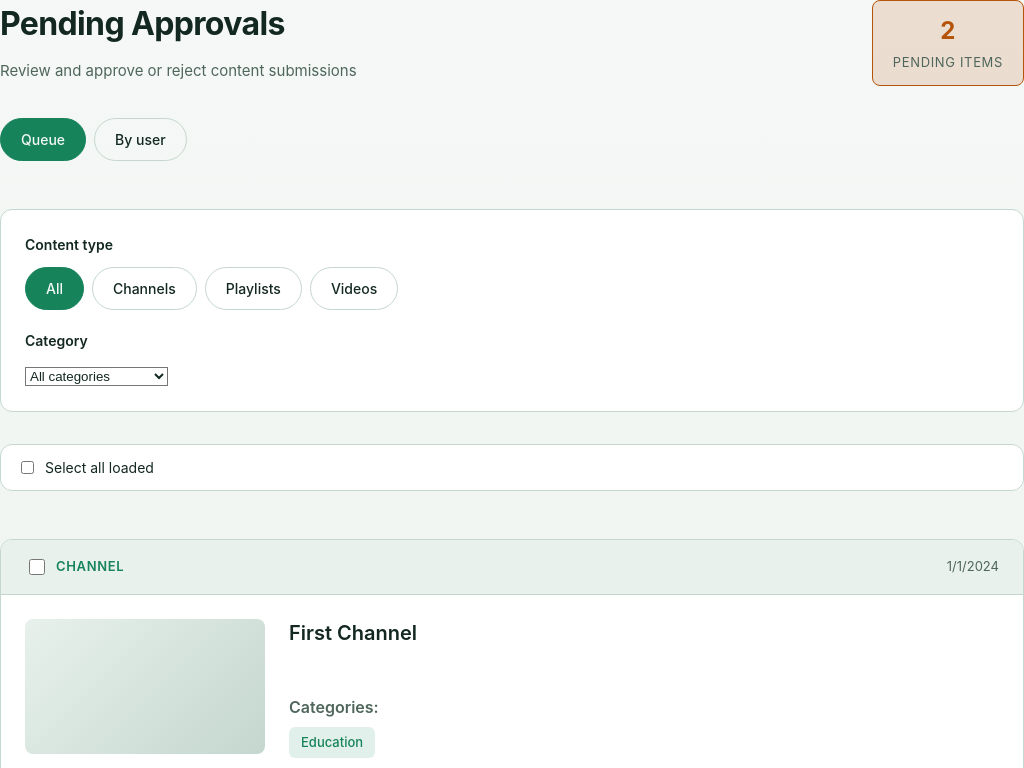
Scenario: reviewing several items at once › approves every selected item and clears them from the queue
Expected: the heading "First Channel" is shown, [289,620,417,644]
Click the checkbox named "Select First Channel": x=37, y=566 [29,558,45,574]
(page scrolled)
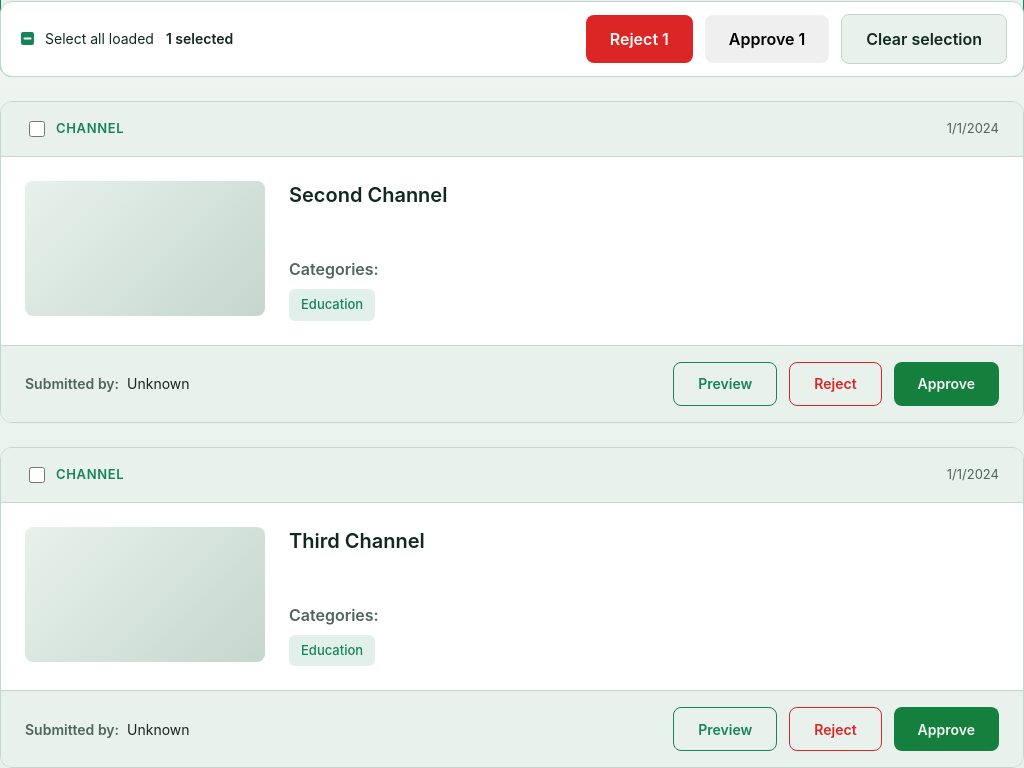
Click the checkbox named "Select Third Channel": x=37, y=474 [29,466,45,482]
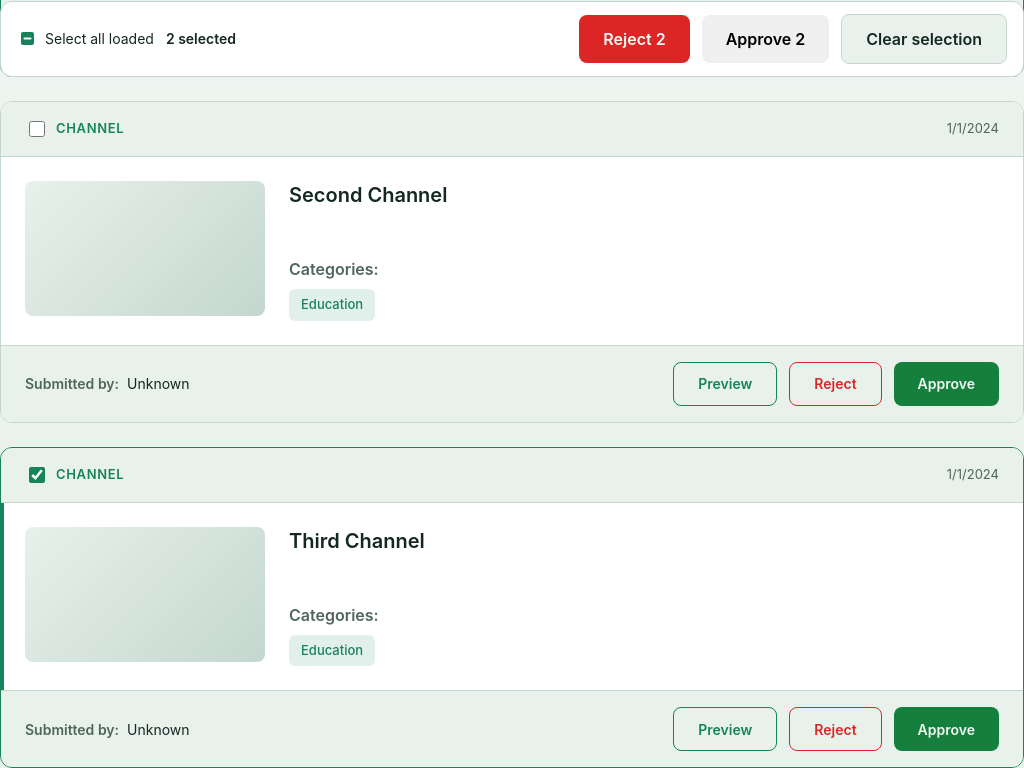
Click the button "Approve 2": x=765, y=38 [702,14,829,62]
(page scrolled)
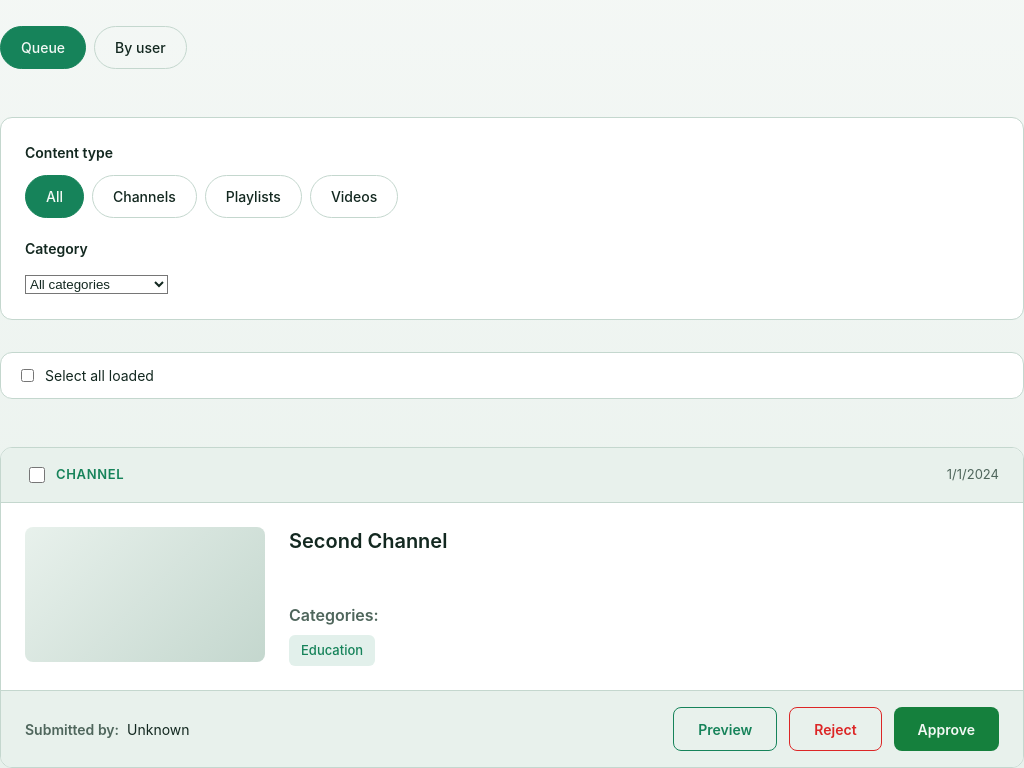
Expected: the heading "Second Channel" is shown, [289,528,447,552]
Expected: the heading "Third Channel" is gone
